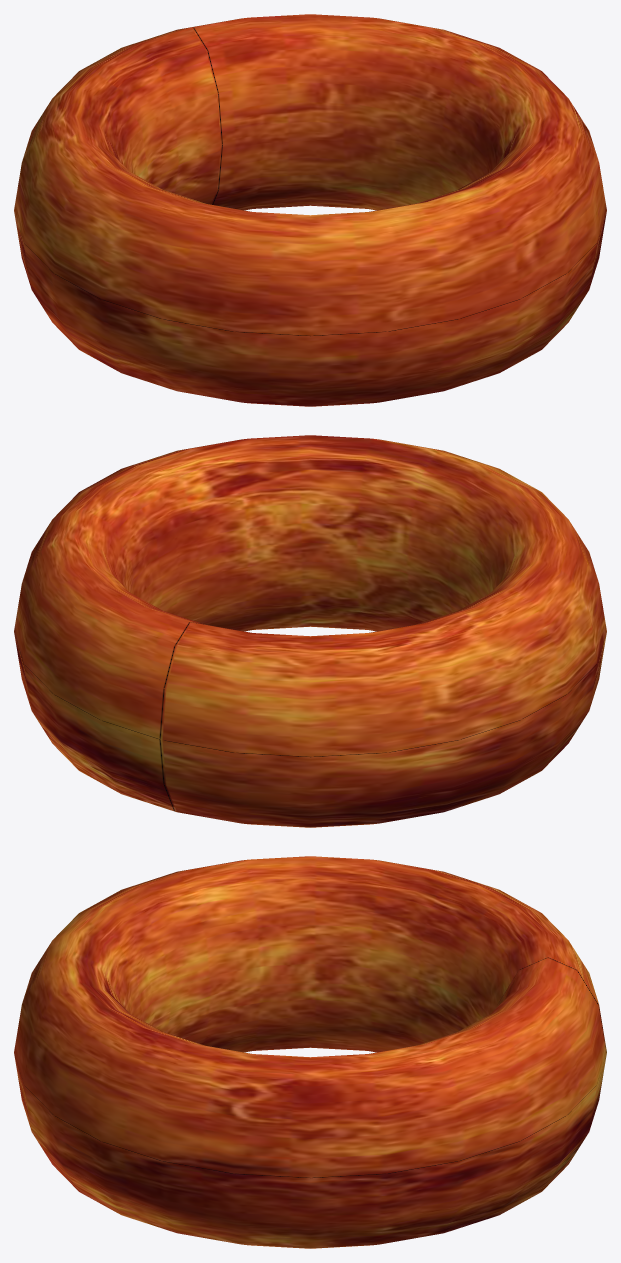
File: fire.FBX
The picture shows the model from 3 angles, top to bottom: view 1: azimuth 30°, elevation 25°; view 2: azimuth 150°, elevation 25°; view 3: azimuth 270°, elevation 25°; orthographic projection.
Parts seen in each view (by area): view 1: Torus001; view 2: Torus001; view 3: Torus001.
Part boxes in pixels (x1,y1,x2,y2): Torus001: (14,14,606,406); Torus001: (14,435,606,827); Torus001: (14,856,606,1248).
Bounding box in the file's own units: 11.53 × 4.11 × 11.53.
1 material, 1 textured.
